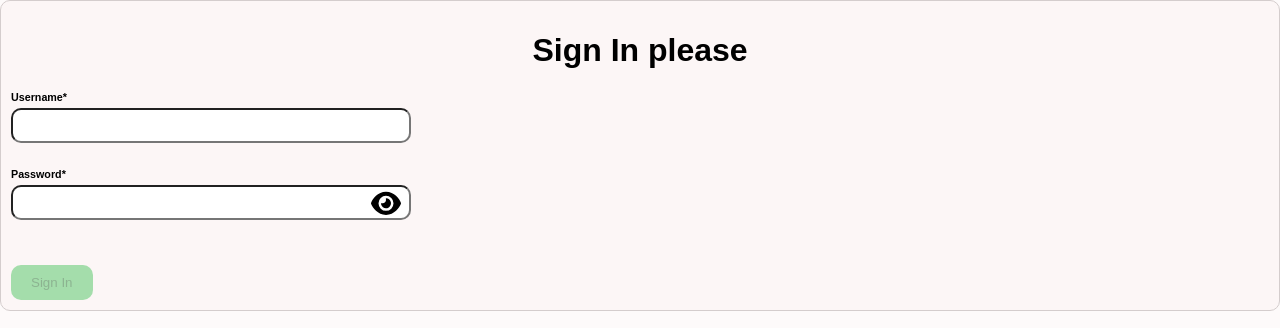
Test case: Sign In page › Test fields with valid values
This screenshot has width=1280, height=328.
Type "admin" into the field with test id "signin-username-testid" at (211,125), box [11,108,411,143]
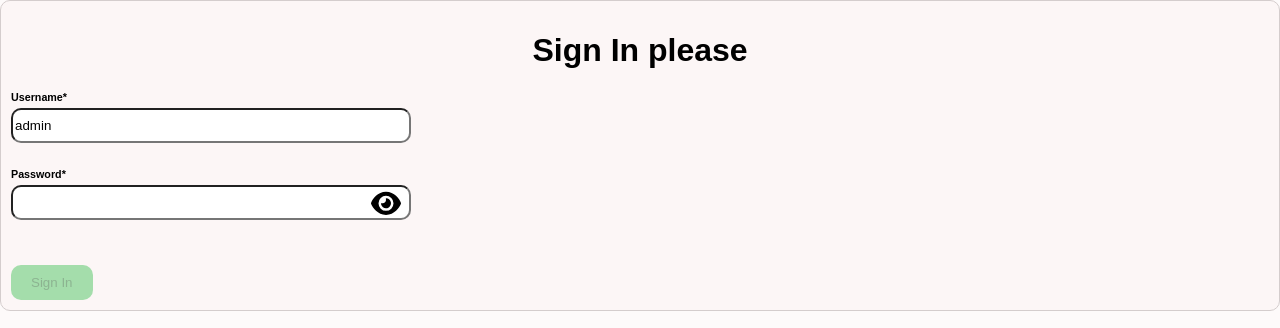
Type "admin123" into the password field with test id "signin-password-testid" at (211,202), box [11,185,411,220]
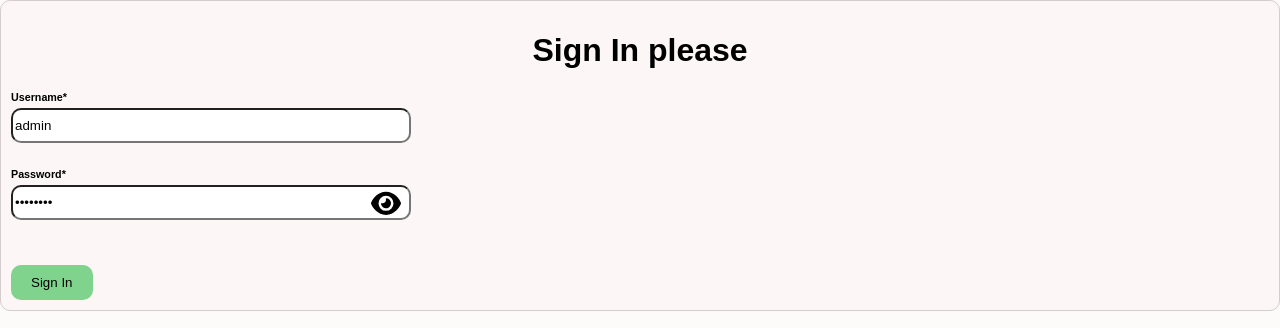
Expected: the button with test id "sign-in-button-testid" is enabled, [11,265,92,300]
